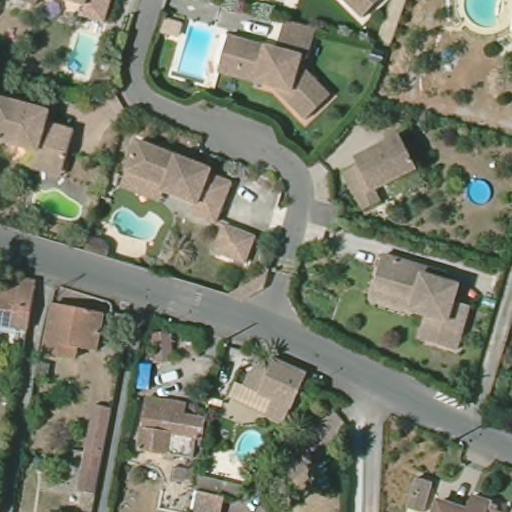pool: (173, 22, 223, 85), (60, 30, 108, 83), (31, 180, 84, 226), (112, 203, 166, 246), (452, 1, 510, 37), (231, 425, 273, 469), (462, 175, 497, 207)
